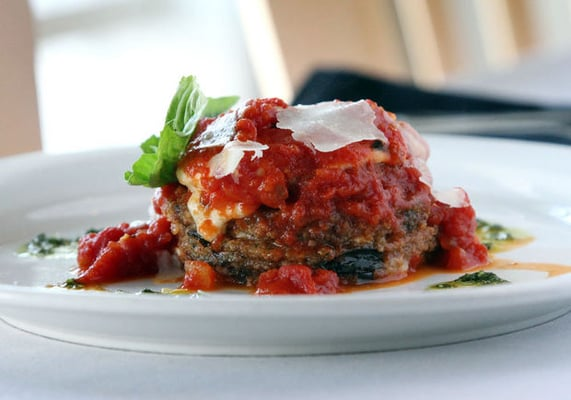pizza: (392, 0, 571, 89)
